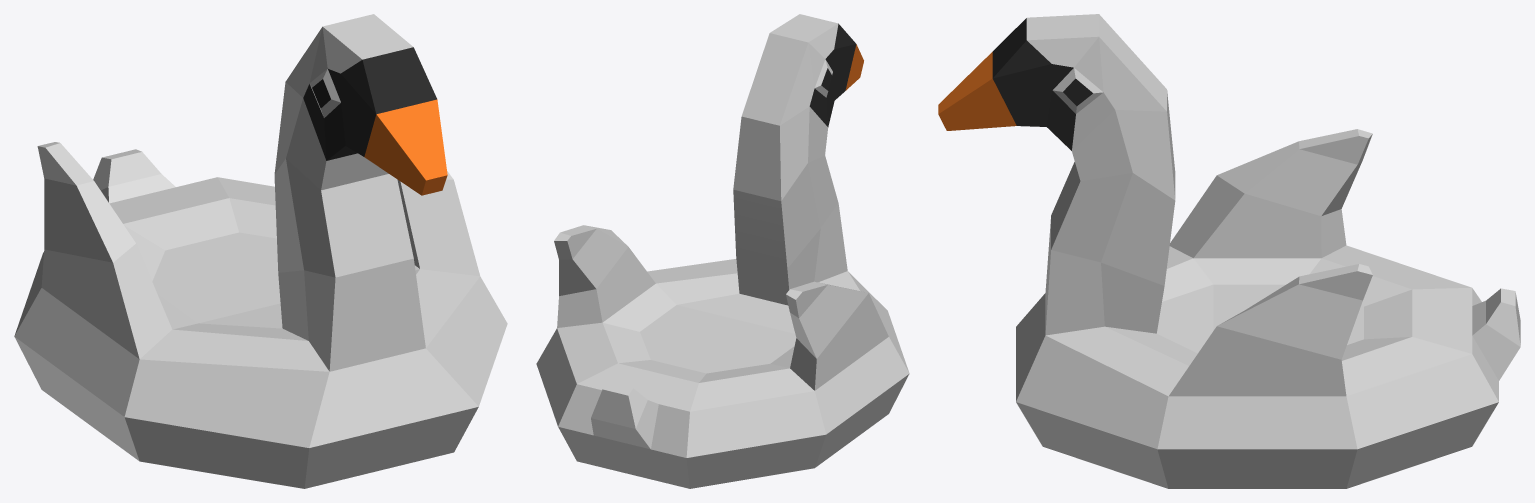
The model's file is beach_inflatable-swan-big.fbx.
The picture shows the model from 3 angles, left to right: view 1: azimuth 30°, elevation 25°; view 2: azimuth 150°, elevation 25°; view 3: azimuth 270°, elevation 25°; orthographic projection. The views are drawn at different scales.
Visible parts, largest first — view 1: beach_inflatable_swan_big; view 2: beach_inflatable_swan_big; view 3: beach_inflatable_swan_big.
Part boxes in pixels (x1,y1,x2,y2): beach_inflatable_swan_big: (14, 14, 507, 488); beach_inflatable_swan_big: (536, 14, 909, 488); beach_inflatable_swan_big: (938, 14, 1520, 488).
Size of the model in its own units: 138 by 152 by 200.
